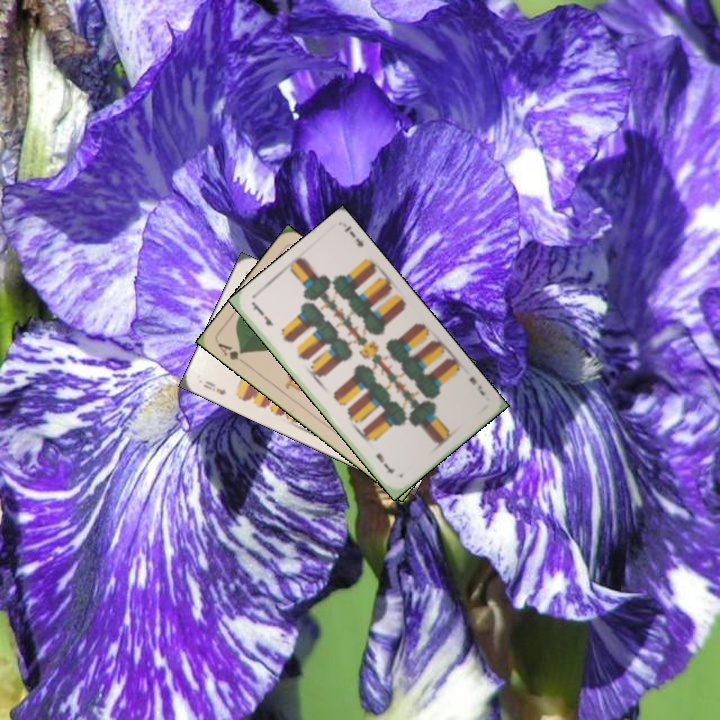E7: (248, 299, 276, 329), (465, 373, 488, 399)
E9: (199, 376, 229, 398)
GA: (213, 338, 249, 368)
